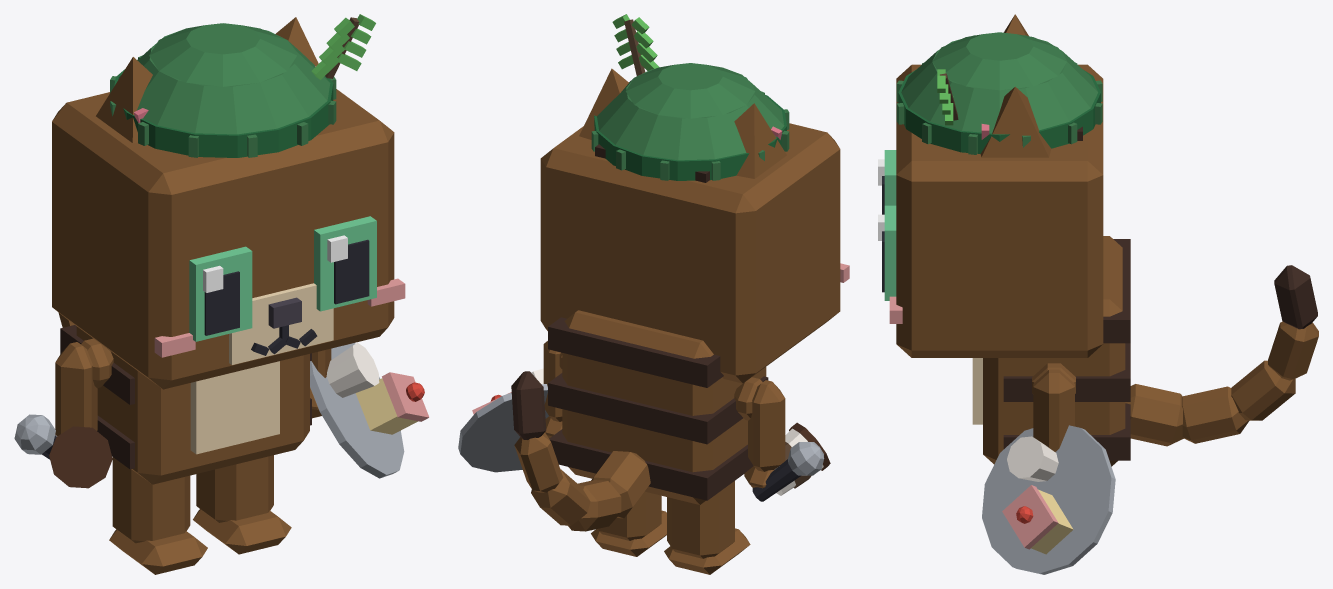
Rendered from CatCafe_Cat_Spruce_Work.glb.
3 renders of one model, left to right at view 1: azimuth 30°, elevation 25°; view 2: azimuth 150°, elevation 25°; view 3: azimuth 270°, elevation 25°, orthographic. The views are drawn at different scales.
Visible parts, largest first — view 1: CatCafe_Cat_Spruce_Work_Head, CatCafe_Cat_Spruce_Work_Prop, CatCafe_Cat_Spruce_Work_Body, CatCafe_Cat_Spruce_Work_Held_Waiter, CatCafe_Cat_Spruce_Work_LegB2, CatCafe_Cat_Spruce_Work_LegB1, CatCafe_Cat_Spruce_Work_Eye2, CatCafe_Cat_Spruce_Work_Eye1, CatCafe_Cat_Spruce_Work_LegF2, CatCafe_Cat_Spruce_Work_Held_Barista, CatCafe_Cat_Spruce_Work_EarR, CatCafe_Cat_Spruce_Work_Held_Entertainer (+2 smaller); view 2: CatCafe_Cat_Spruce_Work_Head, CatCafe_Cat_Spruce_Work_Body, CatCafe_Cat_Spruce_Work_Prop, CatCafe_Cat_Spruce_Work_Tail, CatCafe_Cat_Spruce_Work_LegB2, CatCafe_Cat_Spruce_Work_Held_Waiter, CatCafe_Cat_Spruce_Work_LegF2, CatCafe_Cat_Spruce_Work_LegB1, CatCafe_Cat_Spruce_Work_EarR, CatCafe_Cat_Spruce_Work_Held_Entertainer, CatCafe_Cat_Spruce_Work_LegF1, CatCafe_Cat_Spruce_Work_EarL (+1 smaller); view 3: CatCafe_Cat_Spruce_Work_Head, CatCafe_Cat_Spruce_Work_Prop, CatCafe_Cat_Spruce_Work_Held_Waiter, CatCafe_Cat_Spruce_Work_Body, CatCafe_Cat_Spruce_Work_Tail, CatCafe_Cat_Spruce_Work_EarL, CatCafe_Cat_Spruce_Work_LegF1, CatCafe_Cat_Spruce_Work_Eye1, CatCafe_Cat_Spruce_Work_Eye2.
Part boxes in pixels (x1,y1,x2,y2): CatCafe_Cat_Spruce_Work_Head: (52, 89, 405, 389); CatCafe_Cat_Spruce_Work_Prop: (110, 14, 375, 157); CatCafe_Cat_Spruce_Work_Body: (60, 325, 311, 484); CatCafe_Cat_Spruce_Work_Held_Waiter: (310, 342, 429, 478); CatCafe_Cat_Spruce_Work_LegB2: (109, 457, 207, 574); CatCafe_Cat_Spruce_Work_LegB1: (193, 455, 291, 554); CatCafe_Cat_Spruce_Work_Eye2: (189, 246, 252, 341); CatCafe_Cat_Spruce_Work_Eye1: (314, 216, 376, 311); CatCafe_Cat_Spruce_Work_LegF2: (55, 342, 97, 436); CatCafe_Cat_Spruce_Work_Held_Barista: (49, 426, 112, 488); CatCafe_Cat_Spruce_Work_EarR: (96, 57, 152, 143); CatCafe_Cat_Spruce_Work_Held_Entertainer: (14, 414, 56, 459); CatCafe_Cat_Spruce_Work_Head: (540, 123, 849, 383); CatCafe_Cat_Spruce_Work_Body: (548, 310, 768, 504); CatCafe_Cat_Spruce_Work_Prop: (591, 14, 789, 180); CatCafe_Cat_Spruce_Work_Tail: (511, 371, 650, 531); CatCafe_Cat_Spruce_Work_LegB2: (664, 481, 750, 574); CatCafe_Cat_Spruce_Work_Held_Waiter: (458, 368, 548, 472); CatCafe_Cat_Spruce_Work_LegF2: (744, 380, 785, 488); CatCafe_Cat_Spruce_Work_LegB1: (591, 491, 666, 556); CatCafe_Cat_Spruce_Work_EarR: (734, 103, 786, 178); CatCafe_Cat_Spruce_Work_Held_Entertainer: (752, 442, 824, 501); CatCafe_Cat_Spruce_Work_LegF1: (543, 341, 562, 438); CatCafe_Cat_Spruce_Work_EarL: (579, 68, 628, 139); CatCafe_Cat_Spruce_Work_Head: (889, 64, 1103, 357); CatCafe_Cat_Spruce_Work_Prop: (896, 32, 1102, 154); CatCafe_Cat_Spruce_Work_Held_Waiter: (982, 425, 1115, 574); CatCafe_Cat_Spruce_Work_Body: (972, 236, 1130, 466); CatCafe_Cat_Spruce_Work_Tail: (1125, 265, 1318, 446); CatCafe_Cat_Spruce_Work_EarL: (980, 86, 1051, 157); CatCafe_Cat_Spruce_Work_LegF1: (1033, 369, 1074, 451); CatCafe_Cat_Spruce_Work_Eye1: (878, 205, 896, 300); CatCafe_Cat_Spruce_Work_Eye2: (878, 150, 896, 214).
Size of the model in its own units: 1.53 by 2.02 by 1.62.
Materials: 1 (1 with a texture image).
